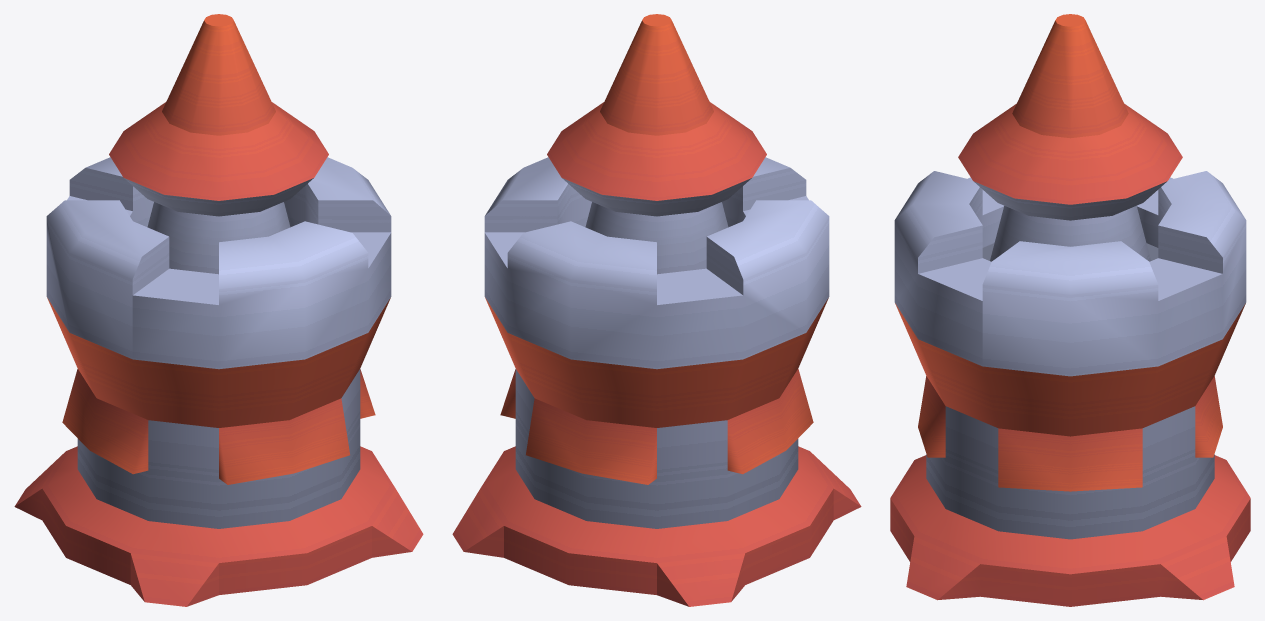
The model's file is tower-round-build-e.glb.
3 views of the same model, side by side, from view 1: azimuth 30°, elevation 25°; view 2: azimuth 150°, elevation 25°; view 3: azimuth 270°, elevation 25° (orthographic). The views are drawn at different scales.
Parts seen in each view (by area): view 1: tower-round-build-e; view 2: tower-round-build-e; view 3: tower-round-build-e.
Boxes of the visible parts, bbox=[...] form: tower-round-build-e: bbox=[14, 14, 423, 606]; tower-round-build-e: bbox=[452, 14, 861, 606]; tower-round-build-e: bbox=[890, 14, 1250, 606].
Bounding box in the file's own units: 1 × 1.56 × 1.
1 material, 1 textured.
